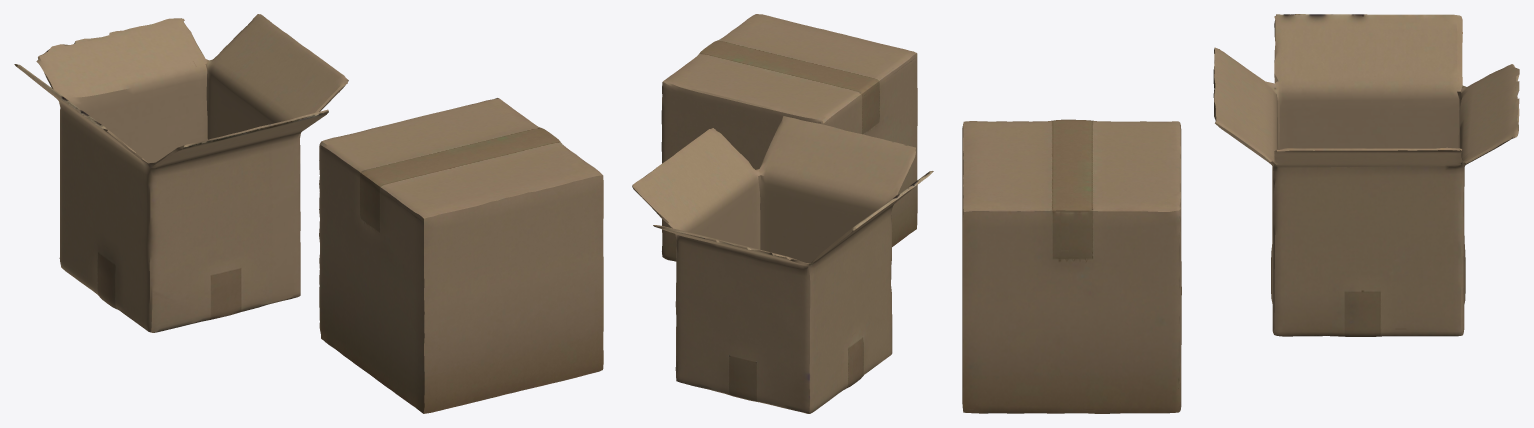
File: two_cardboard_boxes_one_open_one_closed.glb
3 views of the same model, side by side, from view 1: azimuth 30°, elevation 25°; view 2: azimuth 150°, elevation 25°; view 3: azimuth 270°, elevation 25° (orthographic). The views are drawn at different scales.
Visible parts, largest first — view 1: Object_4; view 2: Object_4; view 3: Object_4.
Boxes of the visible parts, x1,y1,x2,y2 form: Object_4: (14,14,603,413); Object_4: (632,14,933,413); Object_4: (962,14,1519,413).
Bounding box in the file's own units: 1.51 × 0.8988 × 2.01.
Materials: 1 (1 with a texture image).
